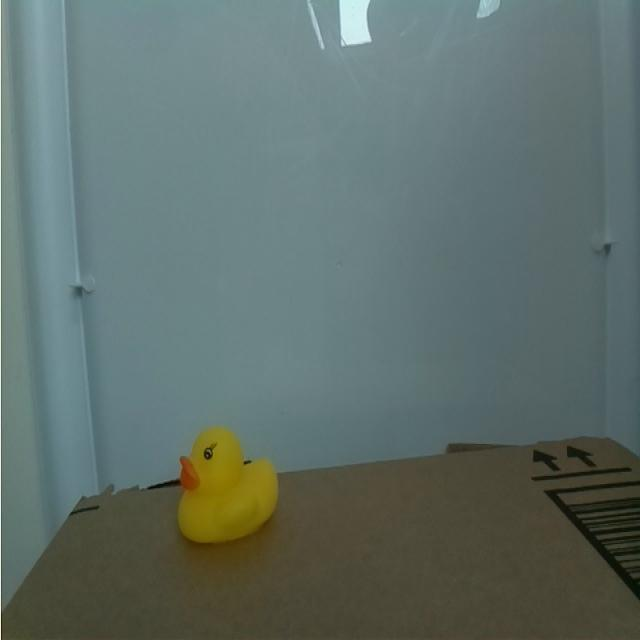duck_regular: (159, 400, 292, 569)
